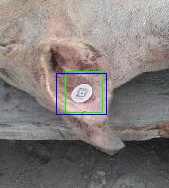text: (65, 71, 102, 112)
